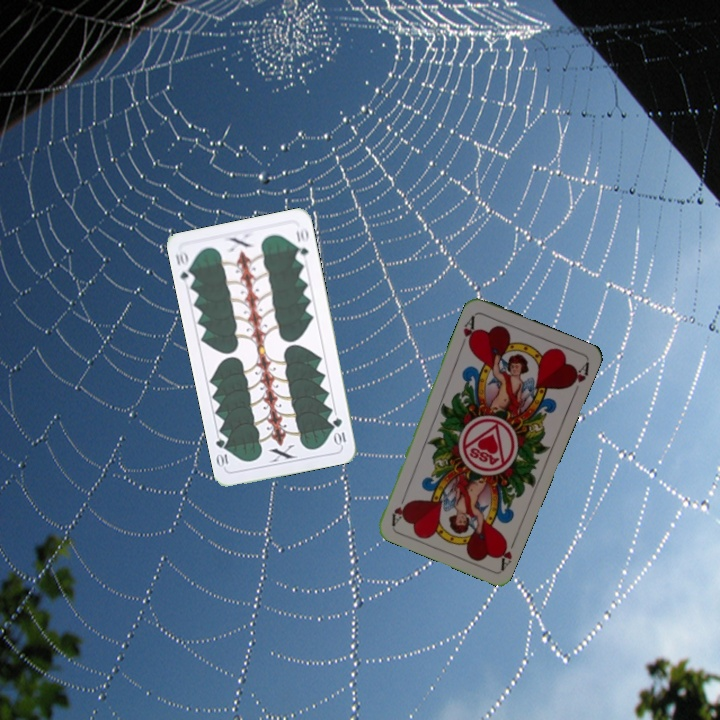G10: (171, 246, 197, 288), (329, 413, 348, 448)
HA: (494, 533, 519, 572), (457, 311, 479, 350)
